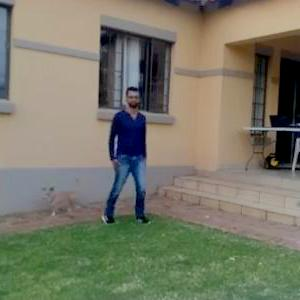follow: (101, 85, 148, 227)
